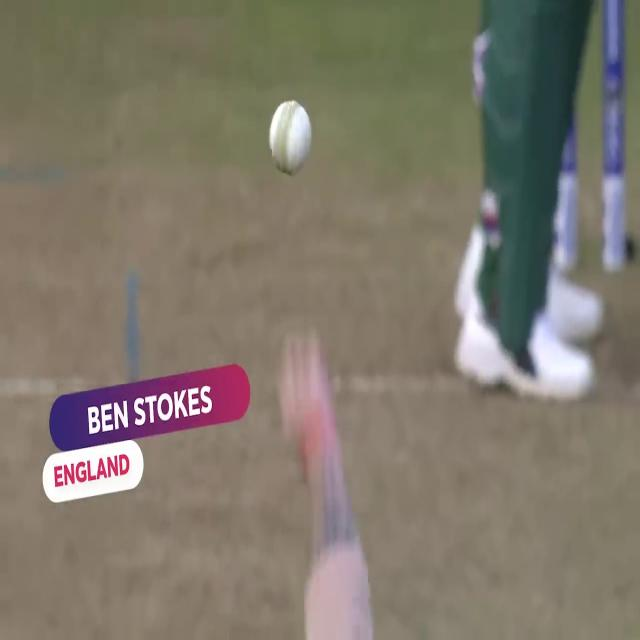ball: (264, 94, 316, 177)
